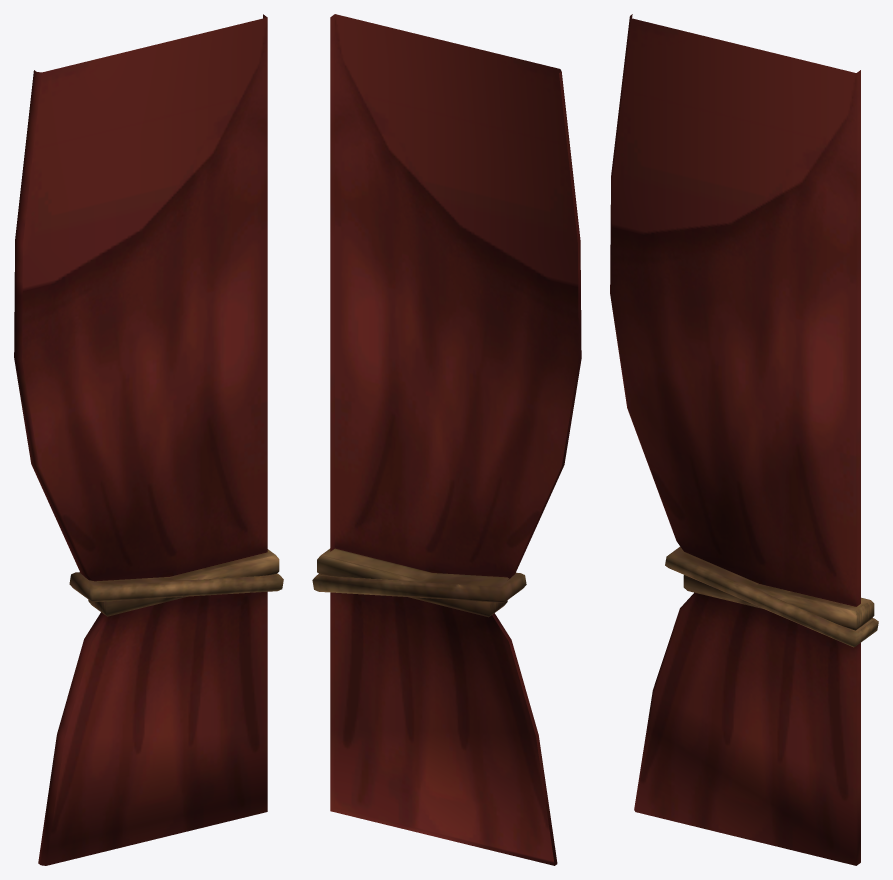
Rendered from EndLevelCurtains_RightFrame.obj.
The picture shows the model from 3 angles, left to right: view 1: azimuth 30°, elevation 25°; view 2: azimuth 150°, elevation 25°; view 3: azimuth 330°, elevation 25°; orthographic projection.
Parts seen in each view (by area): view 1: Model_EndLevelCurtains_RightFrame; view 2: Model_EndLevelCurtains_RightFrame; view 3: Model_EndLevelCurtains_RightFrame.
Part boxes in pixels (x1,y1,x2,y2): Model_EndLevelCurtains_RightFrame: (14,14,283,865); Model_EndLevelCurtains_RightFrame: (312,14,581,865); Model_EndLevelCurtains_RightFrame: (610,14,878,865).
Size of the model in its own units: 2.3 by 6.8 by 0.3463.
Materials: 1 (1 with a texture image).
